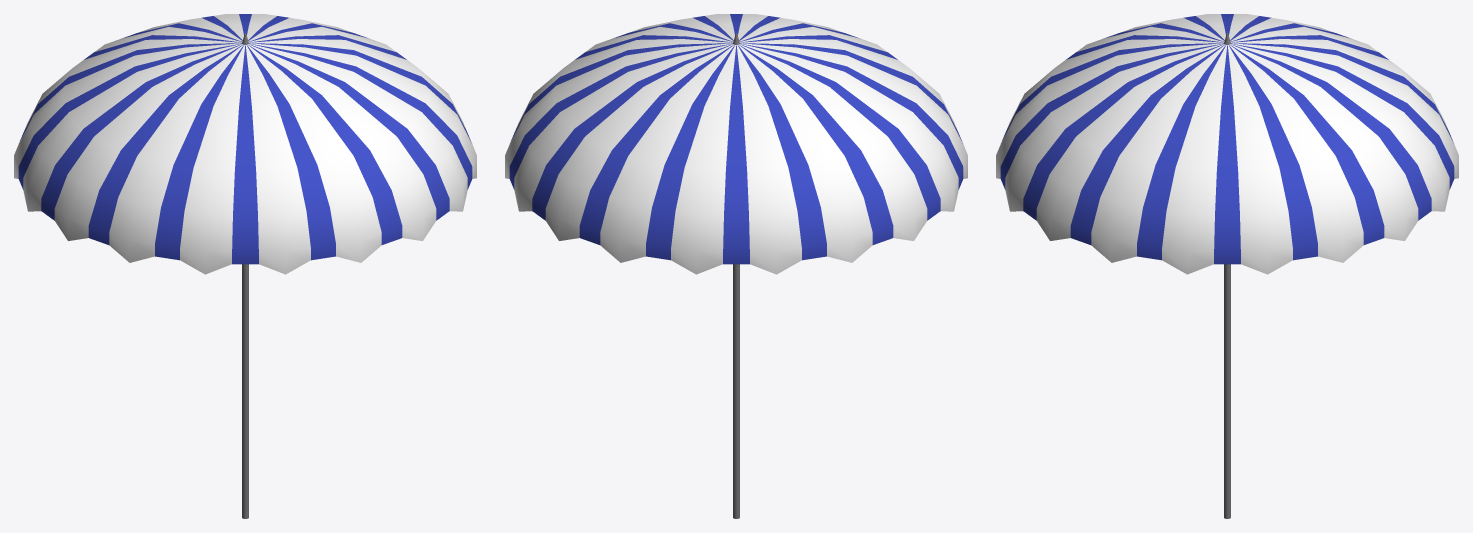
Rendered from Sombrinha2.fbx.
3 views of the same model, side by side, from view 1: azimuth 30°, elevation 25°; view 2: azimuth 150°, elevation 25°; view 3: azimuth 270°, elevation 25° (orthographic).
Parts seen in each view (by area): view 1: Sombrinha2; view 2: Sombrinha2; view 3: Sombrinha2.
Part boxes in pixels (x1,y1,x2,y2): Sombrinha2: (14, 14, 476, 518); Sombrinha2: (505, 14, 967, 518); Sombrinha2: (996, 14, 1458, 518).
Bounding box in the file's own units: 980 × 1149 × 995.
